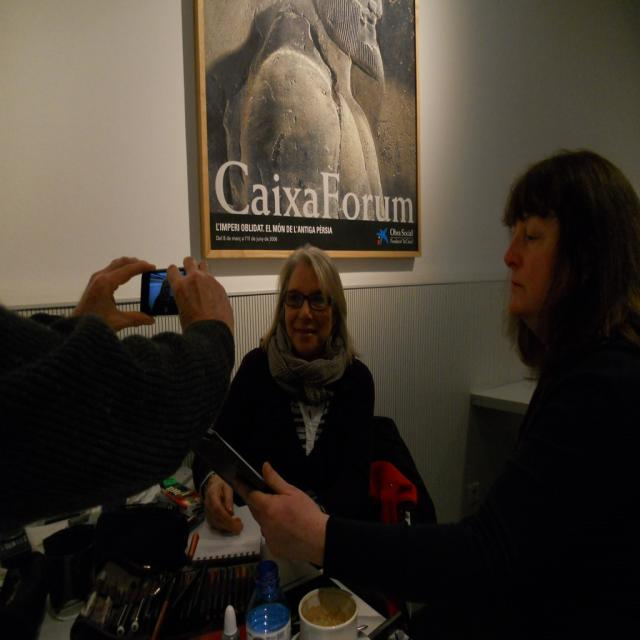chair: (369, 416, 437, 526)
desk: (0, 494, 416, 640)
person: (224, 146, 640, 637), (1, 255, 237, 547), (202, 243, 382, 524)
